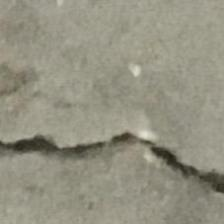Crack: (0, 130, 224, 212)
